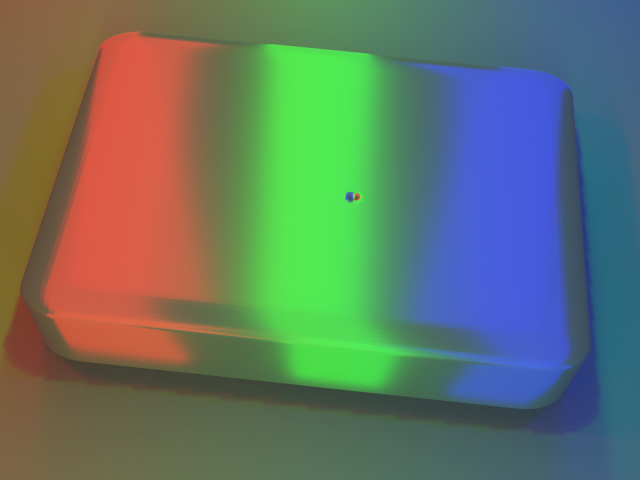dent: (335, 177, 373, 220)
